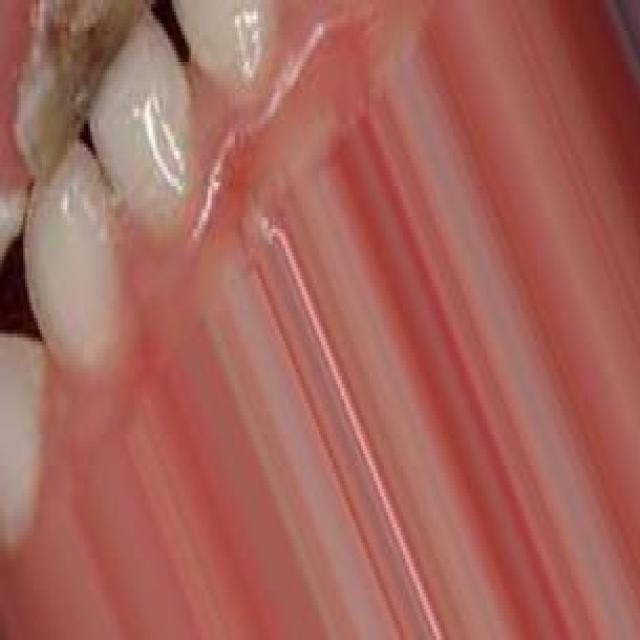caries: (13, 0, 119, 156)
